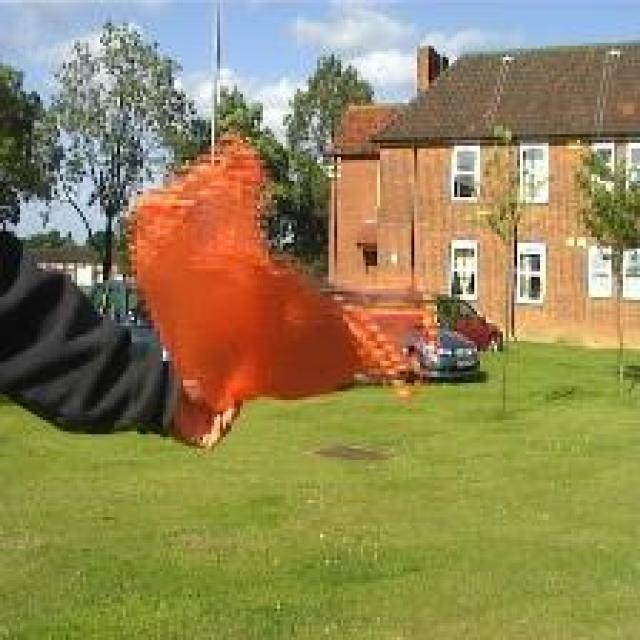other: (120, 158, 460, 408)
